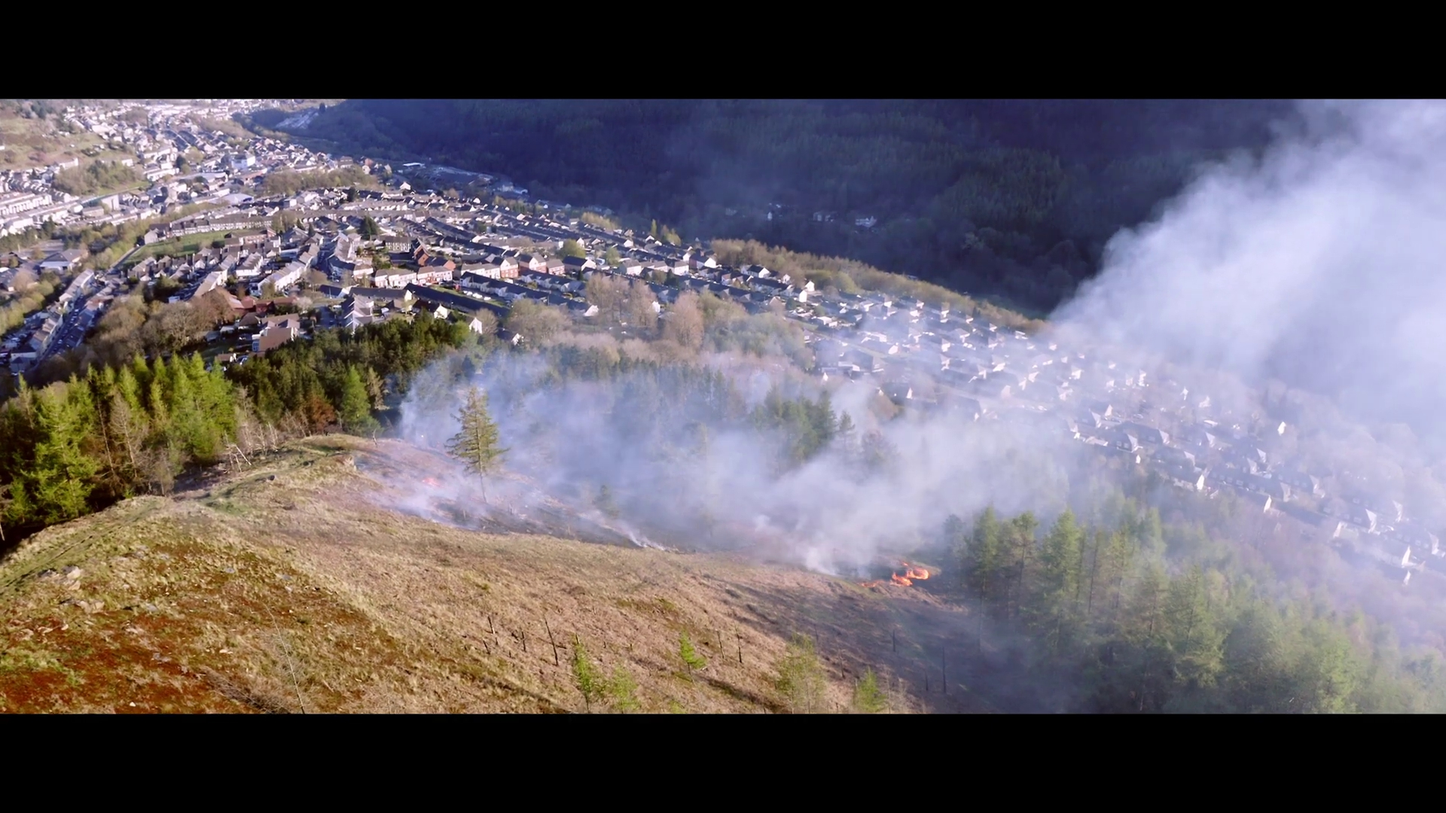forest_fire: (860, 567, 929, 588)
